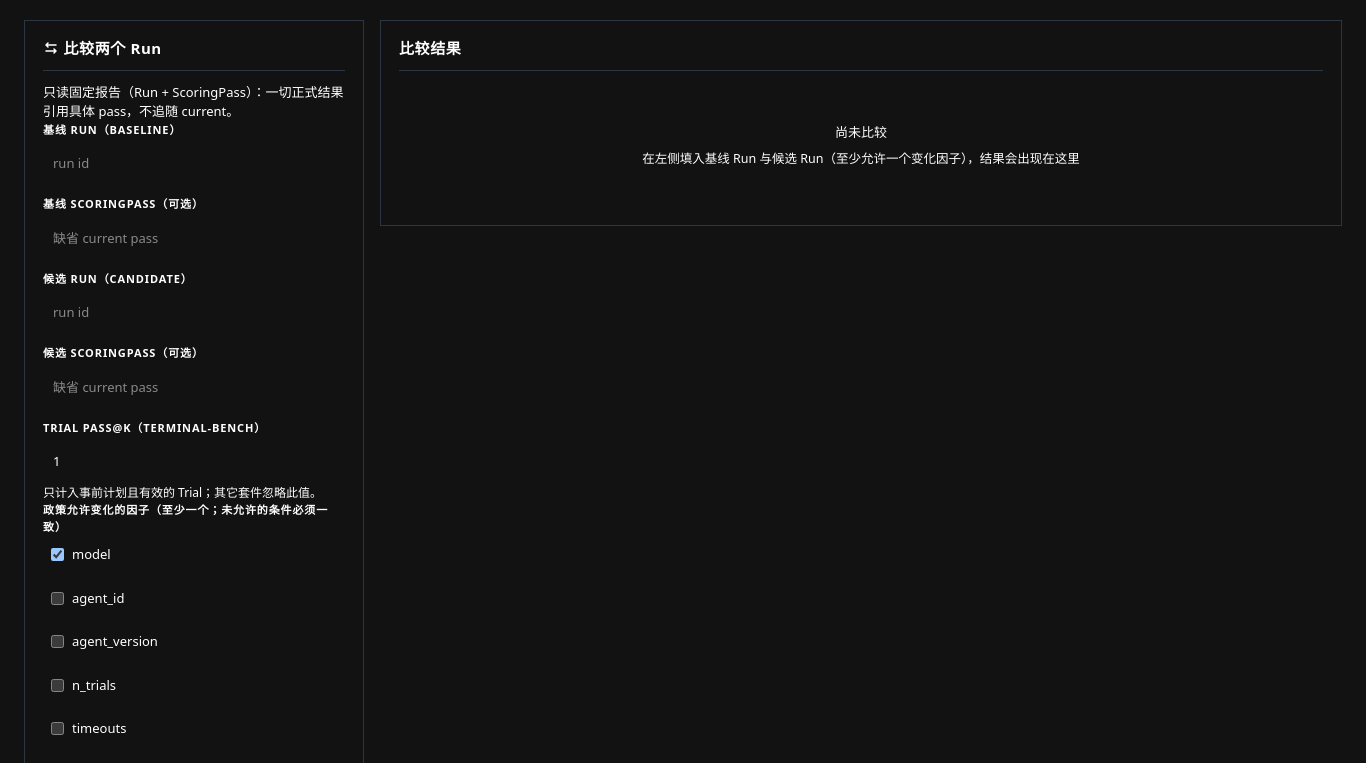
Test case: ComparePage › 展示固定 Trial pass@k 的 Task 资格和未计划行，并传递 k
This screenshot has width=1366, height=763.
Type "run-a" into the field labelled "基线 Run（baseline）". click: (194, 164)
box: [43, 148, 345, 180]
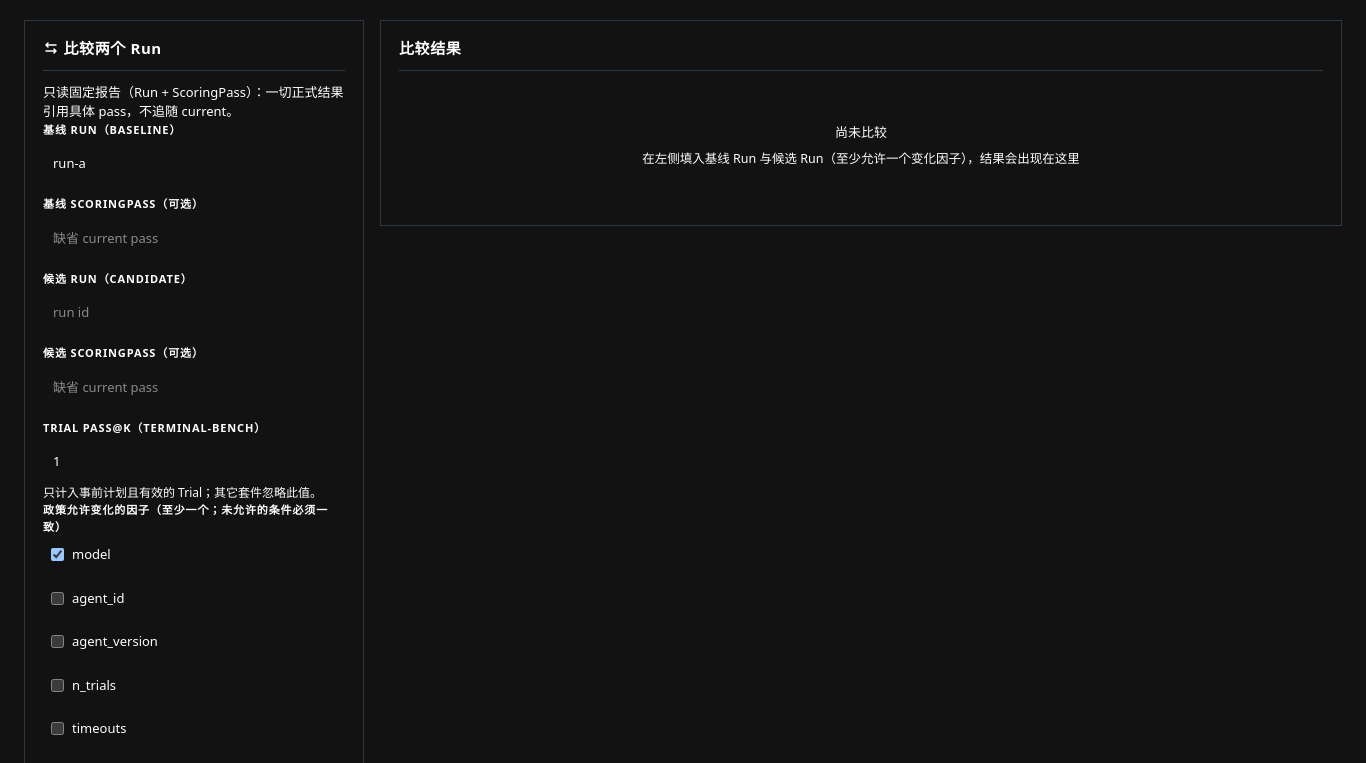
Type "run-b" into the field labelled "候选 Run（candidate）". click: (194, 313)
box: [43, 297, 345, 329]
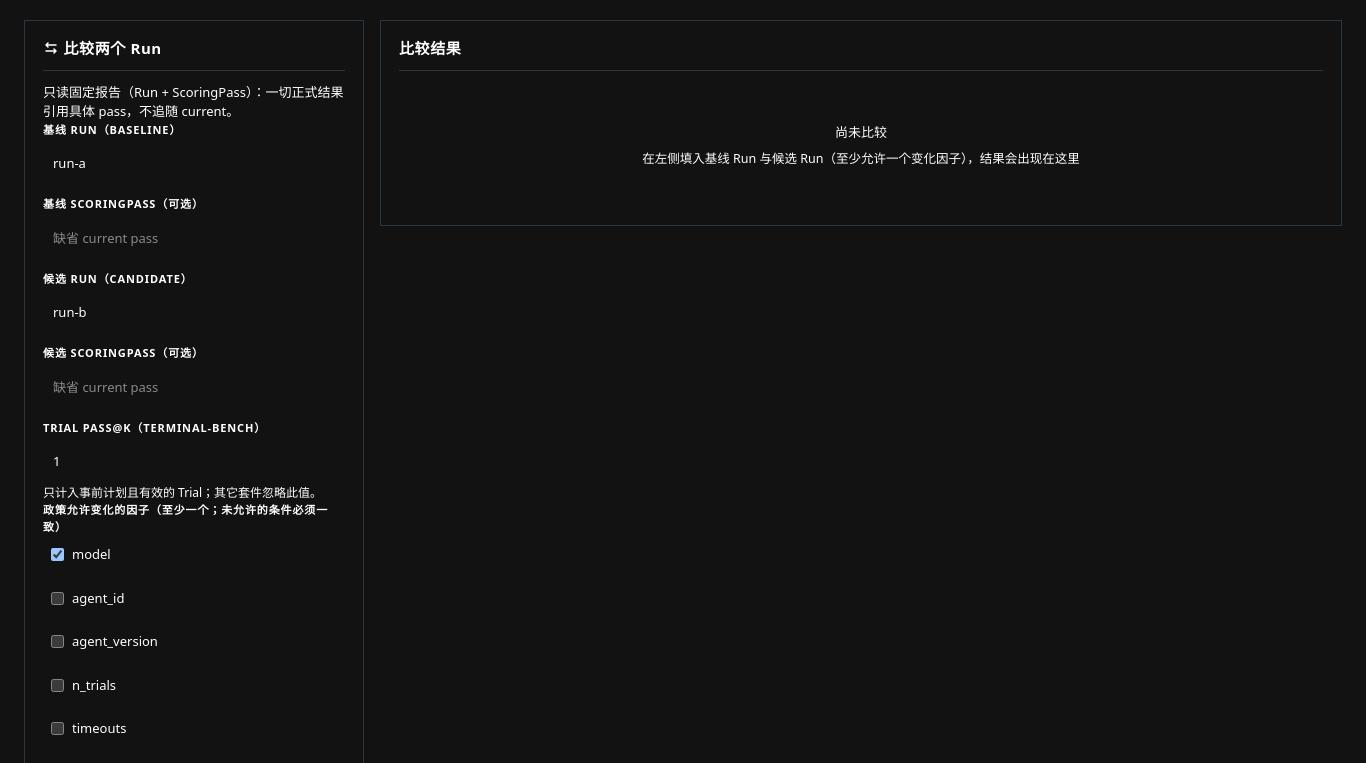
Replace the text in the number field labelled "Trial pass@k（Terminal-Bench） 只计入事前计划且有效的 Trial；其它套件忽略此值。" with "2". click: (194, 462)
box: [43, 446, 345, 478]
(page scrolled)
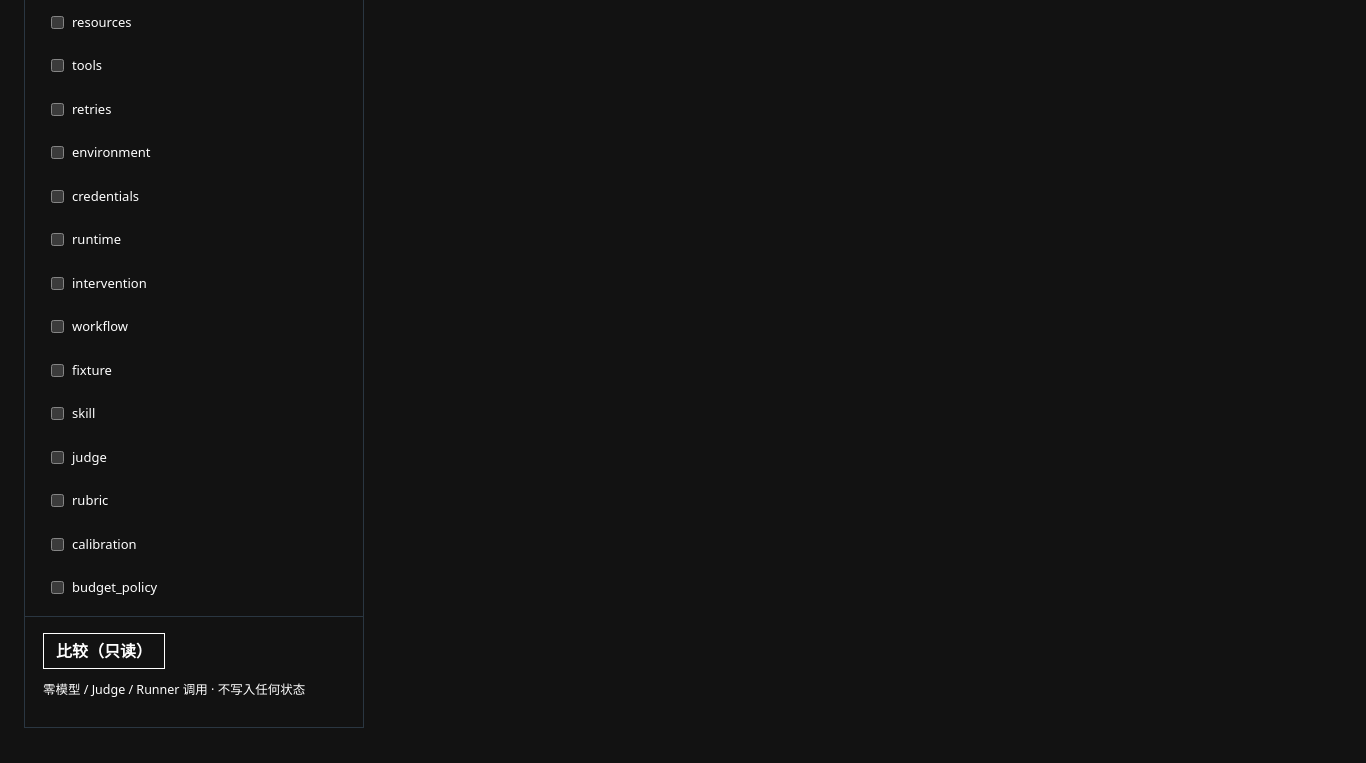
Click the button with test id "compare-submit". click: (104, 650)
box: [43, 632, 165, 668]
(page scrolled)
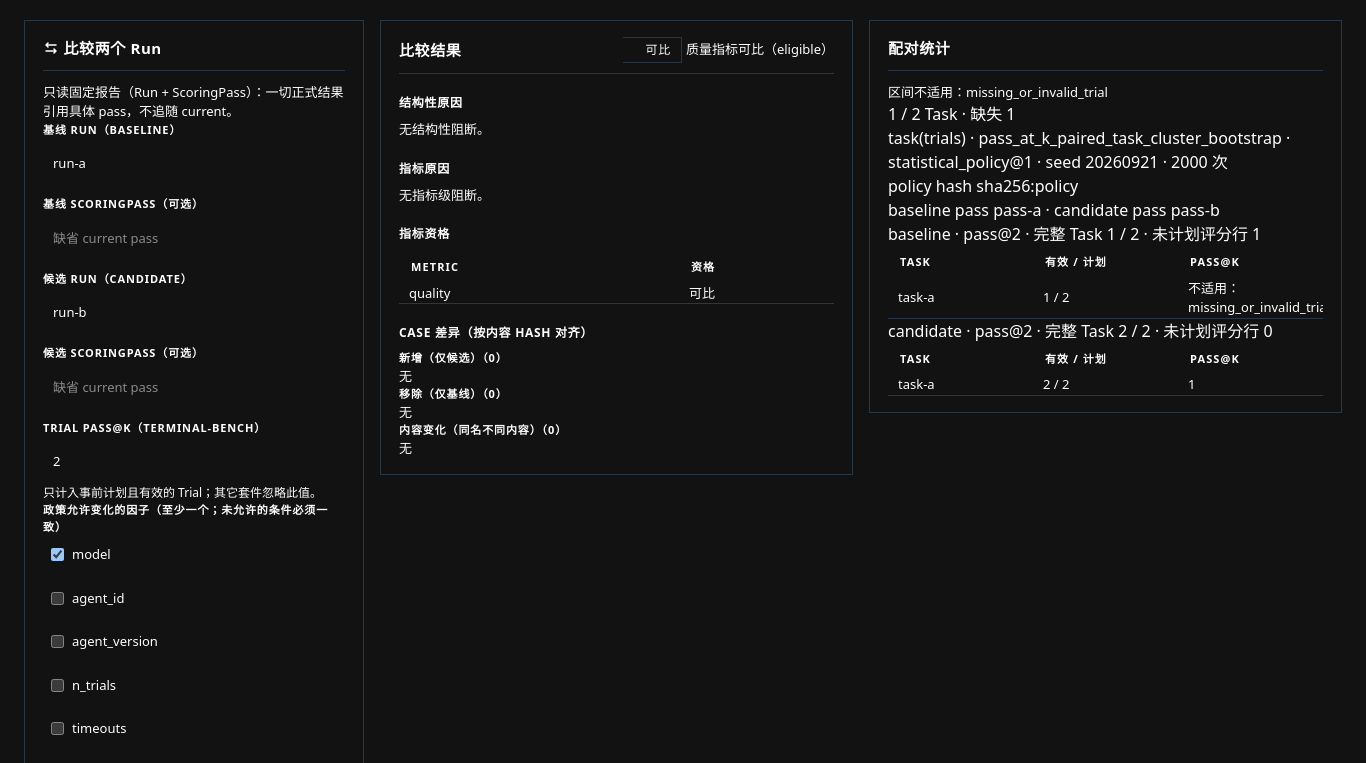
Result: the element with test id "compare-trial-statistics" shows "task-a" at [898, 288, 935, 306]
Result: the element with test id "compare-trial-statistics" shows "1 / 2" at [888, 222, 1323, 396]
Result: the element with test id "compare-trial-statistics" shows "missing_or_invalid_trial" at [1188, 278, 1330, 316]
